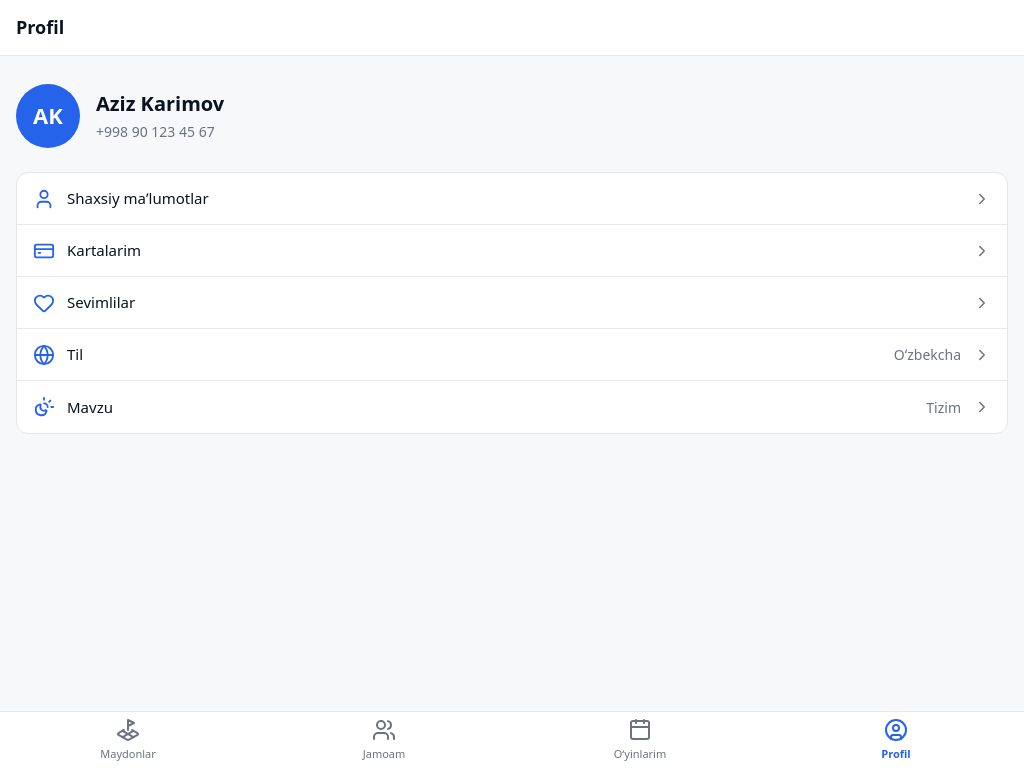
Test case: Profil › changes the language through PATCH /users/me and switches the app
Click the button "Til Oʻzbekcha" at coordinates (927, 354), box [17,329,1007,381]
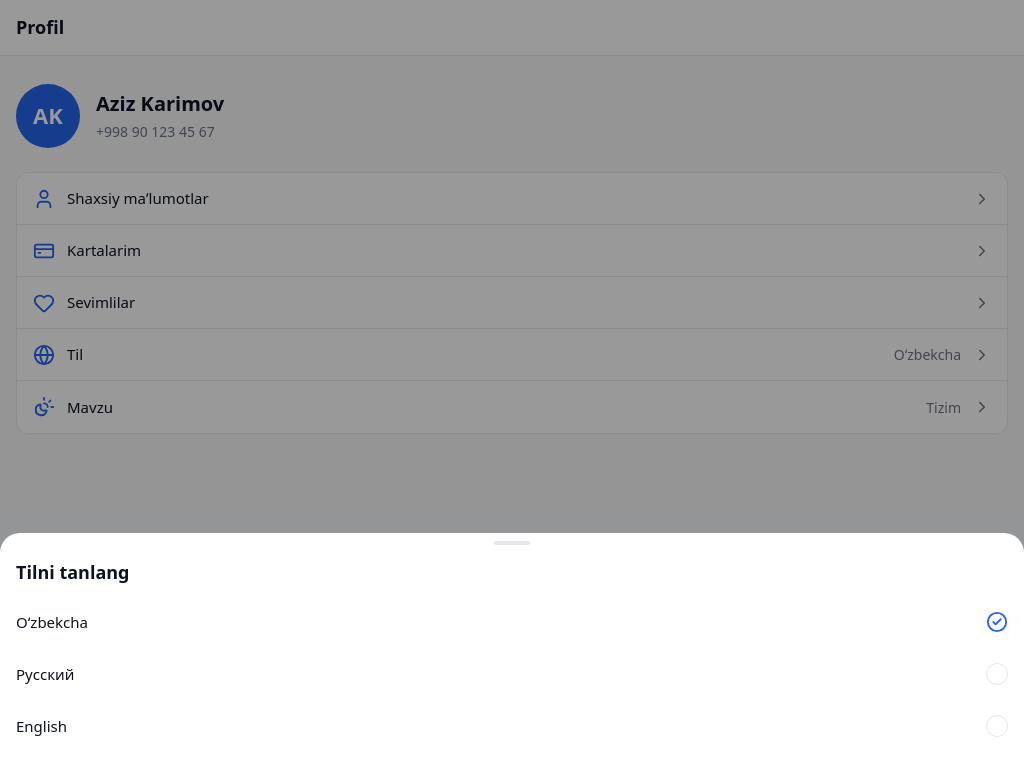
Click the radio button labelled "Русский" at coordinates (45, 674), box [16,648,1008,700]
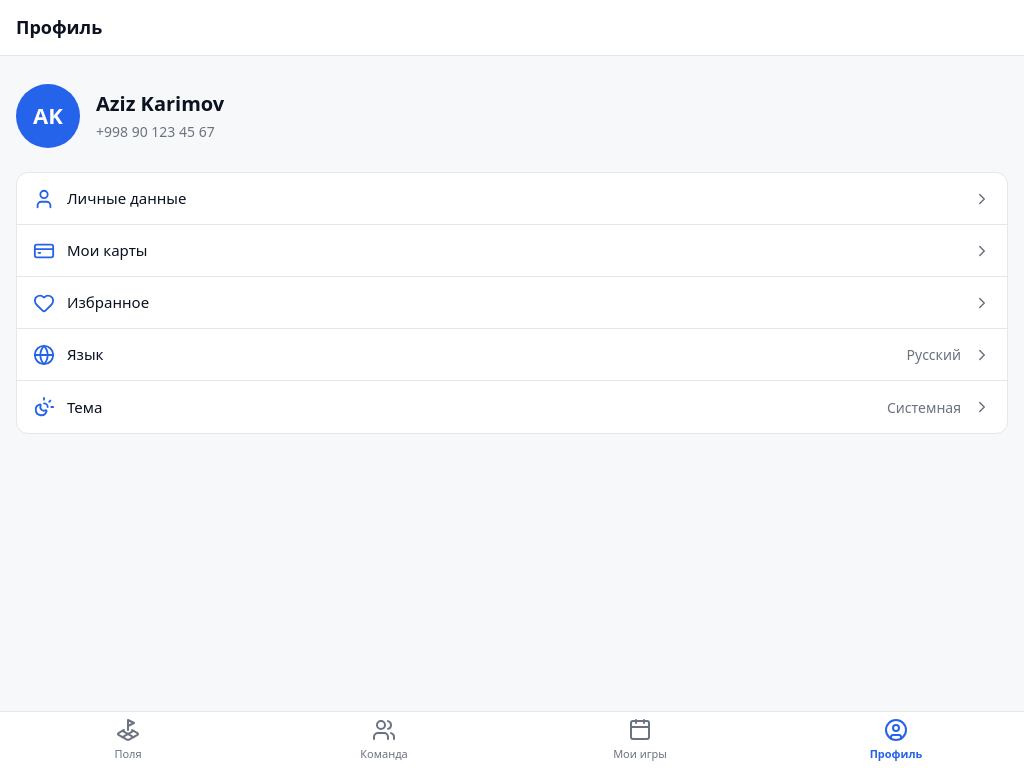
Check: the heading "Профиль" is shown, box [16,15,102,39]
Check: the dialog is gone
